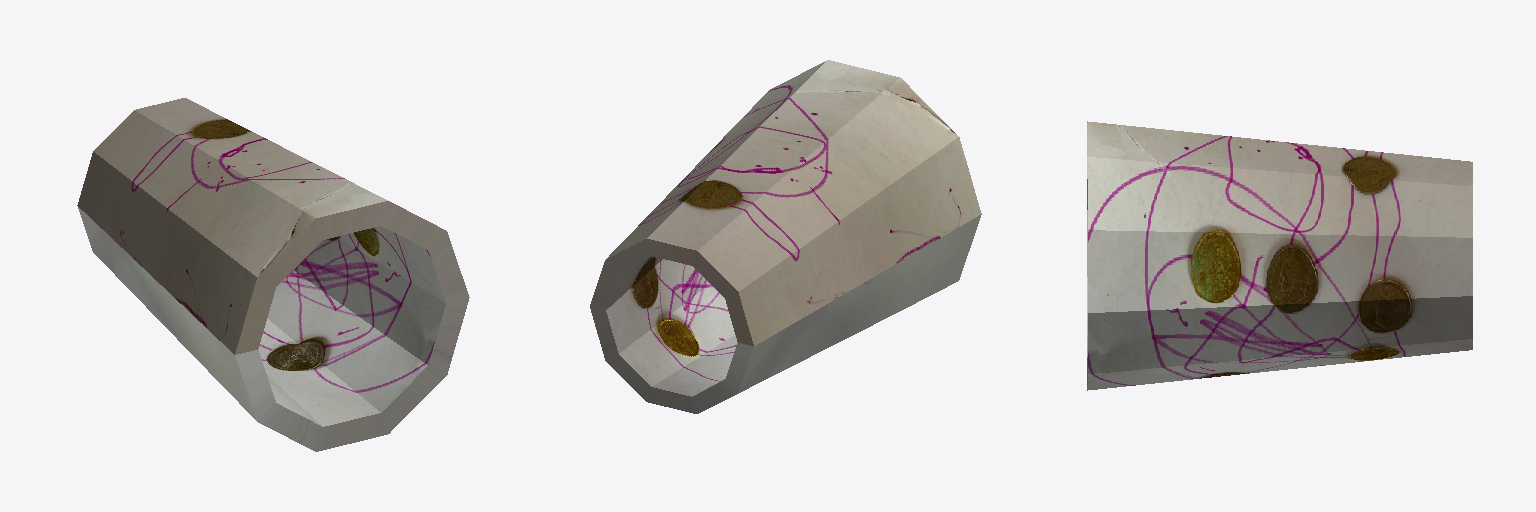
3 views of the same model, side by side, from view 1: azimuth 30°, elevation 25°; view 2: azimuth 150°, elevation 25°; view 3: azimuth 270°, elevation 25° (orthographic).
Parts seen in each view (by area): view 1: 000_Object; view 2: 000_Object; view 3: 000_Object.
Boxes of the visible parts, box(x1,y1,x2,y2) form: 000_Object: box(77, 98, 469, 451); 000_Object: box(590, 60, 981, 413); 000_Object: box(1087, 121, 1472, 390).
Size of the model in its own units: 100 by 95.11 by 142.
1 materials, 1 textured.